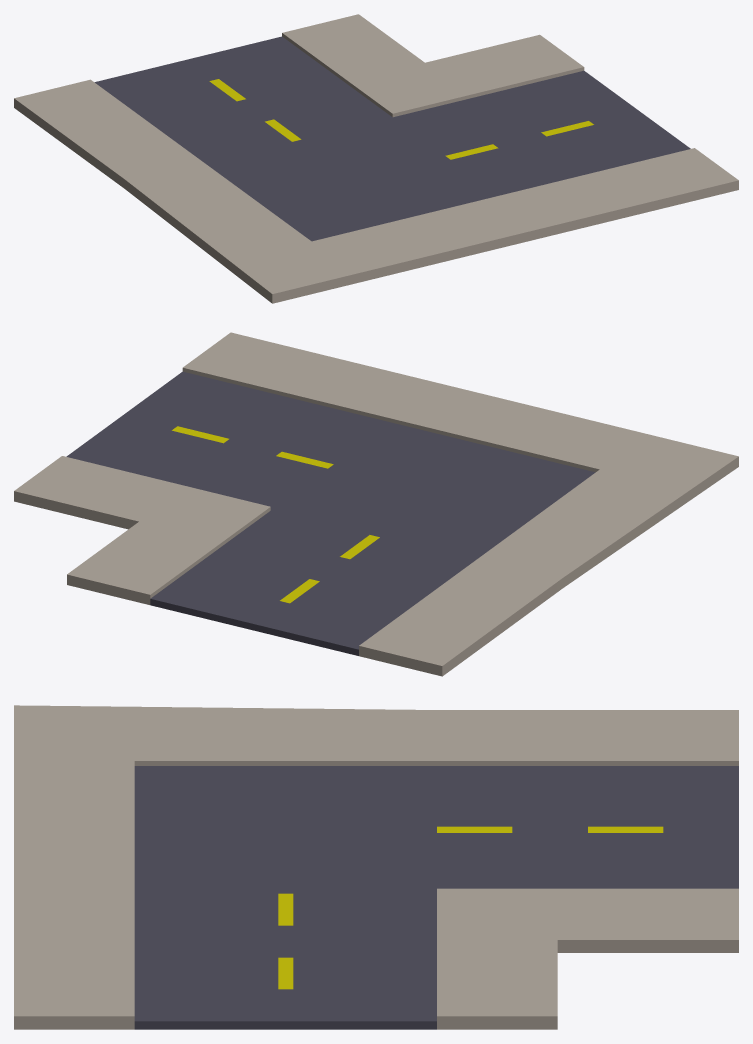
The model's file is Turn.fbx.
The picture shows the model from 3 angles, top to bottom: view 1: azimuth 30°, elevation 25°; view 2: azimuth 150°, elevation 25°; view 3: azimuth 270°, elevation 25°; orthographic projection. The views are drawn at different scales.
Parts seen in each view (by area): view 1: Curve; view 2: Curve; view 3: Curve.
Boxes of the visible parts, box(x1,y1,x2,y2) form: Curve: box(14, 14, 738, 303); Curve: box(14, 332, 738, 676); Curve: box(14, 705, 738, 1029).
Bounding box in the file's own units: 24.36 × 0.4785 × 24.
